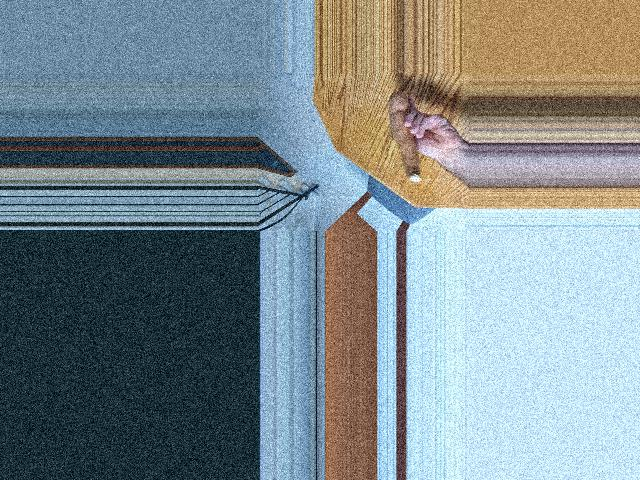sweet_potato: (384, 95, 424, 178)
